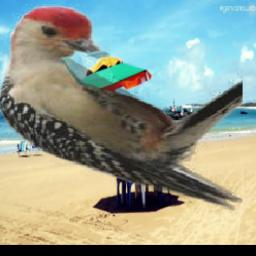Woodpecker: (0, 4, 243, 214)
